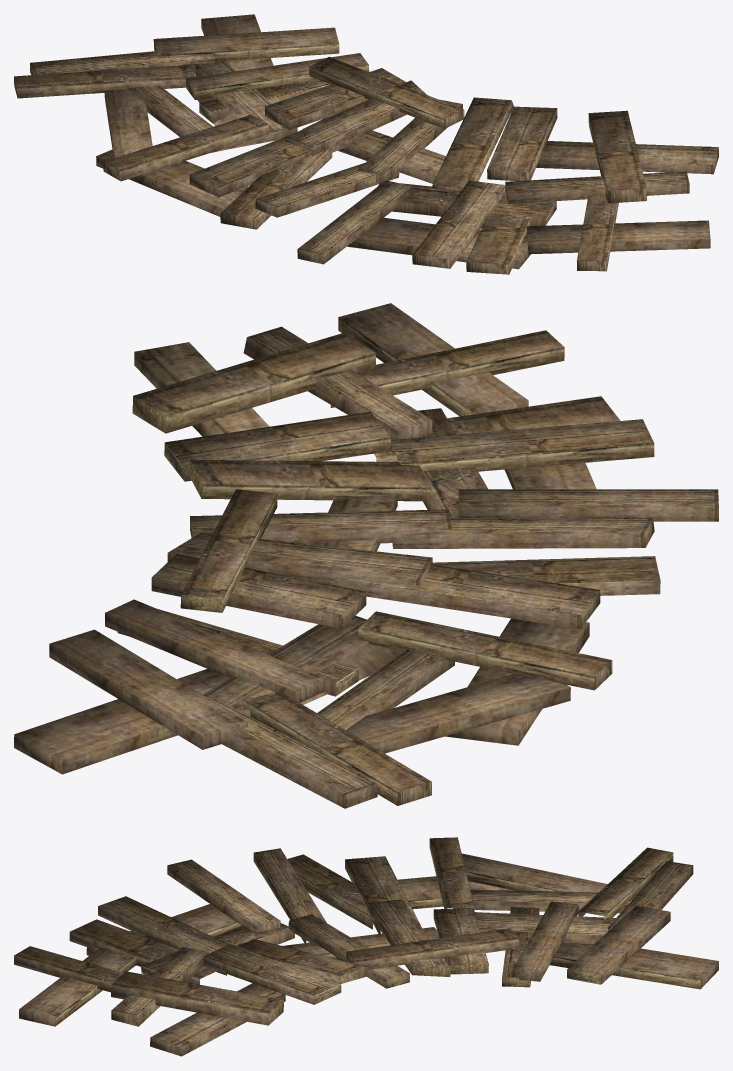
File: S_Build_West109.FBX
The picture shows the model from 3 angles, top to bottom: view 1: azimuth 30°, elevation 25°; view 2: azimuth 150°, elevation 25°; view 3: azimuth 270°, elevation 25°; orthographic projection. The views are drawn at different scales.
Visible parts, largest first — view 1: S_Build_West109; view 2: S_Build_West109; view 3: S_Build_West109.
Boxes of the visible parts, x1,y1,x2,y2 form: S_Build_West109: (14, 14, 718, 274); S_Build_West109: (14, 303, 718, 808); S_Build_West109: (14, 837, 718, 1056).
Size of the model in its own units: 840 by 1154 by 93.02.
